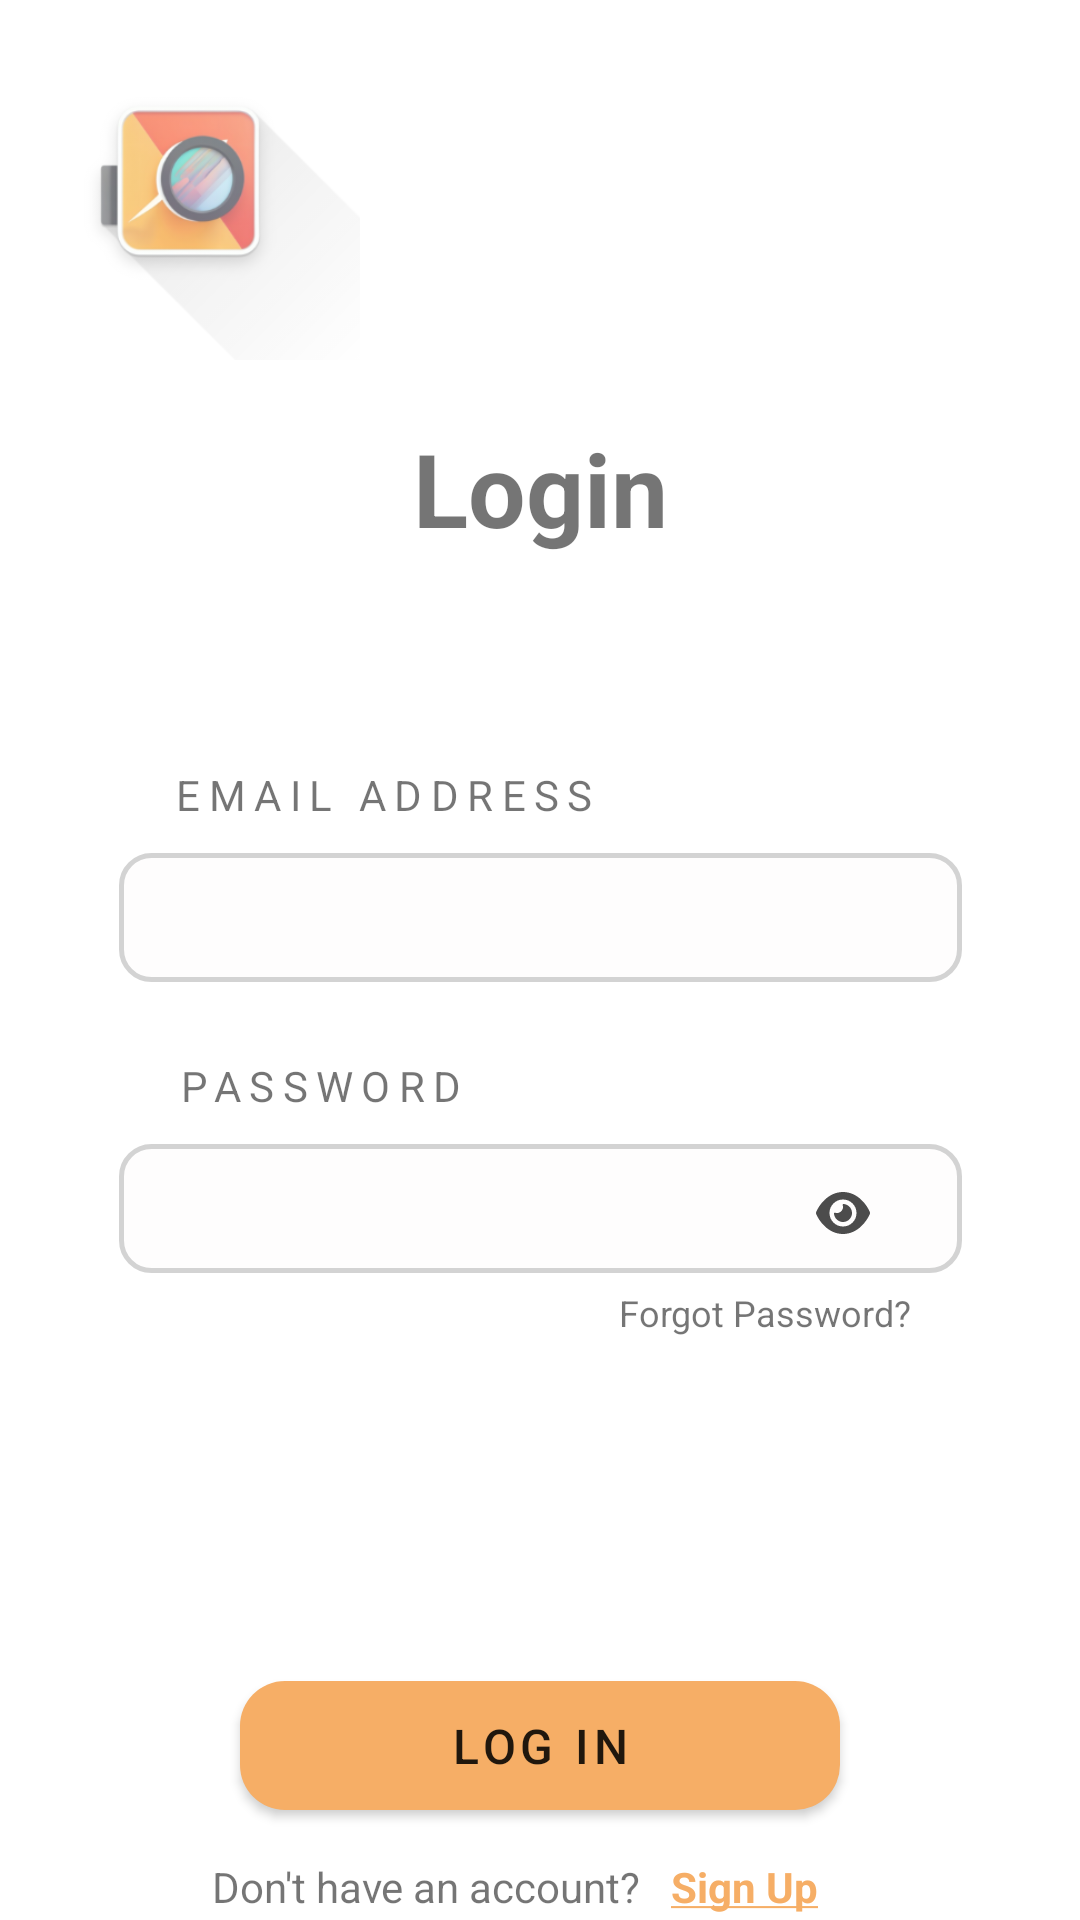

Icon click points for this 1080 × 1920 phone screenshot, format point (x, y):
View Password: point (843, 1213)
